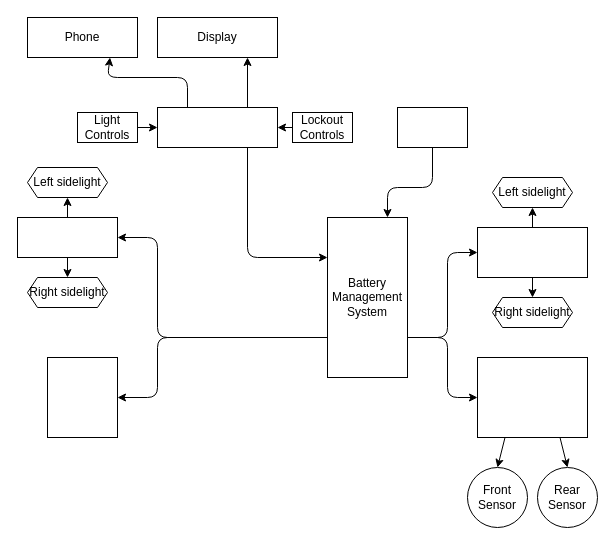
This 615x545 diagram has some shape labels left out. Each missing label, with the centre of its shape:
"Body Computer Module" belongs at point (217, 127).
"Front Light" belongs at point (67, 237).
"Generator" belongs at point (432, 127).
"Lockout Actuator" belongs at point (82, 397).
"Rear Light" belongs at point (532, 252).
"Rotor Sensor" belongs at point (532, 397).
